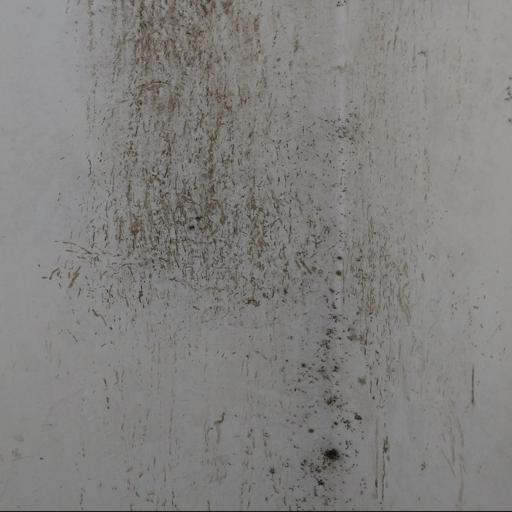stain: (65, 6, 471, 512)
